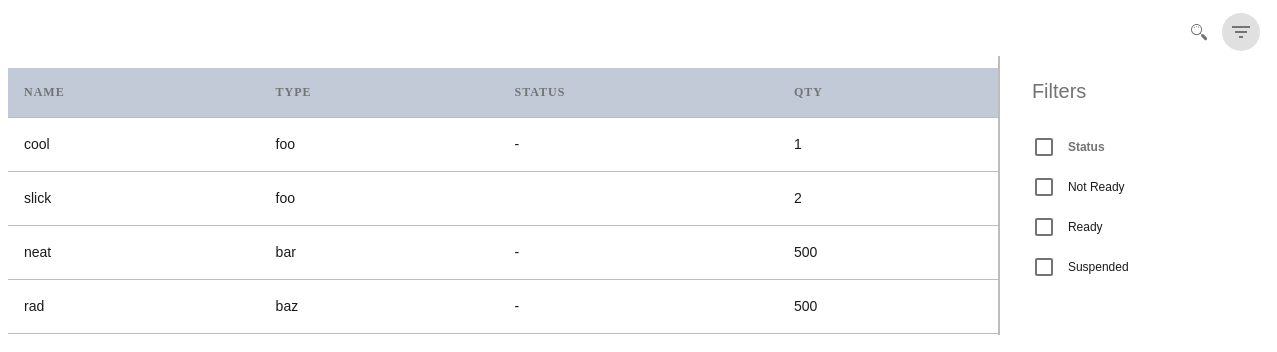
Scenario: DataTableFilters › should filter by status
What coordinates should you click on to do the following:
click the 3rd checkbox
I would click on:
 (1044, 227)
Its box is [1032, 215, 1056, 239].
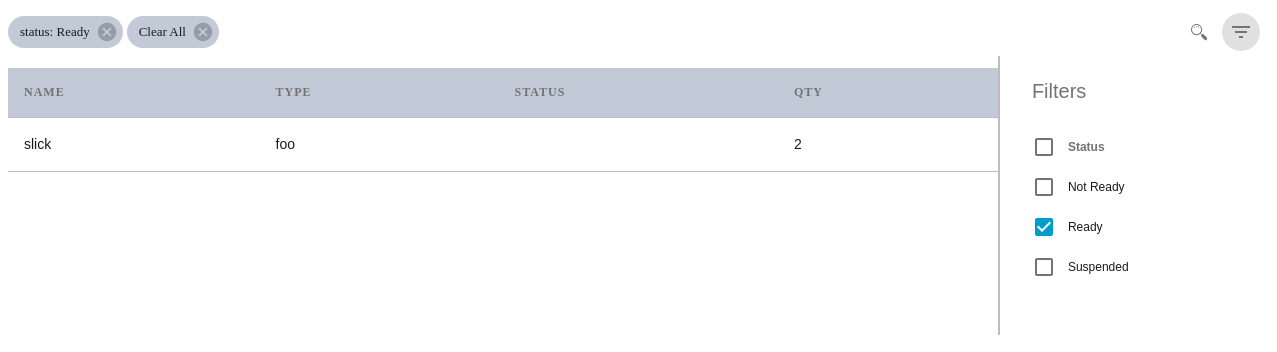
Expected: the row "slick foo 2" is shown, [8, 118, 998, 172]
Expected: the text "status: Ready" is shown, [20, 24, 90, 39]
What coordinates should you click on to do the following:
click the checkbox next to "Suspended"
I would click on:
 (1044, 267)
Its box is [1032, 255, 1056, 279].
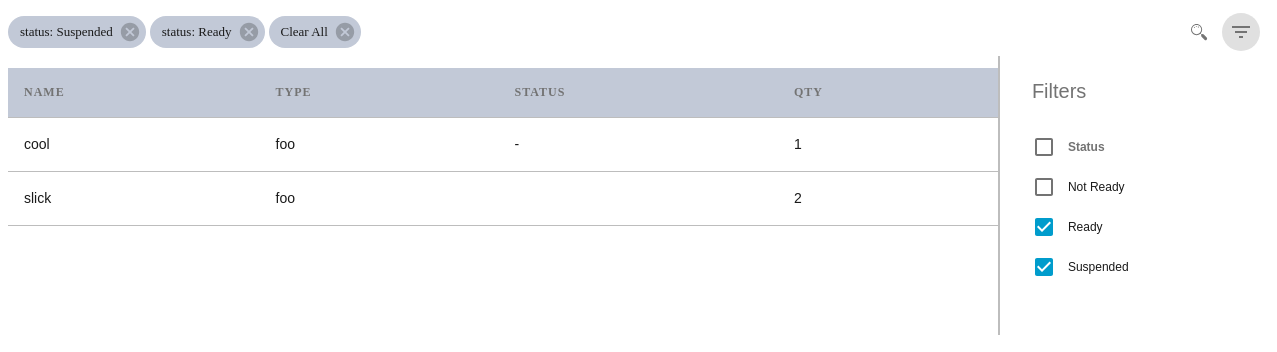
Expected: the row "cool foo - 1" is shown, [8, 118, 998, 172]
